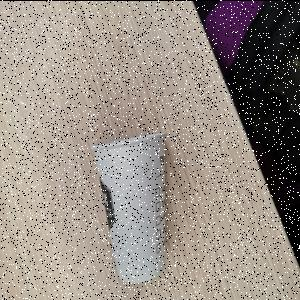Cup: (90, 130, 170, 286)
